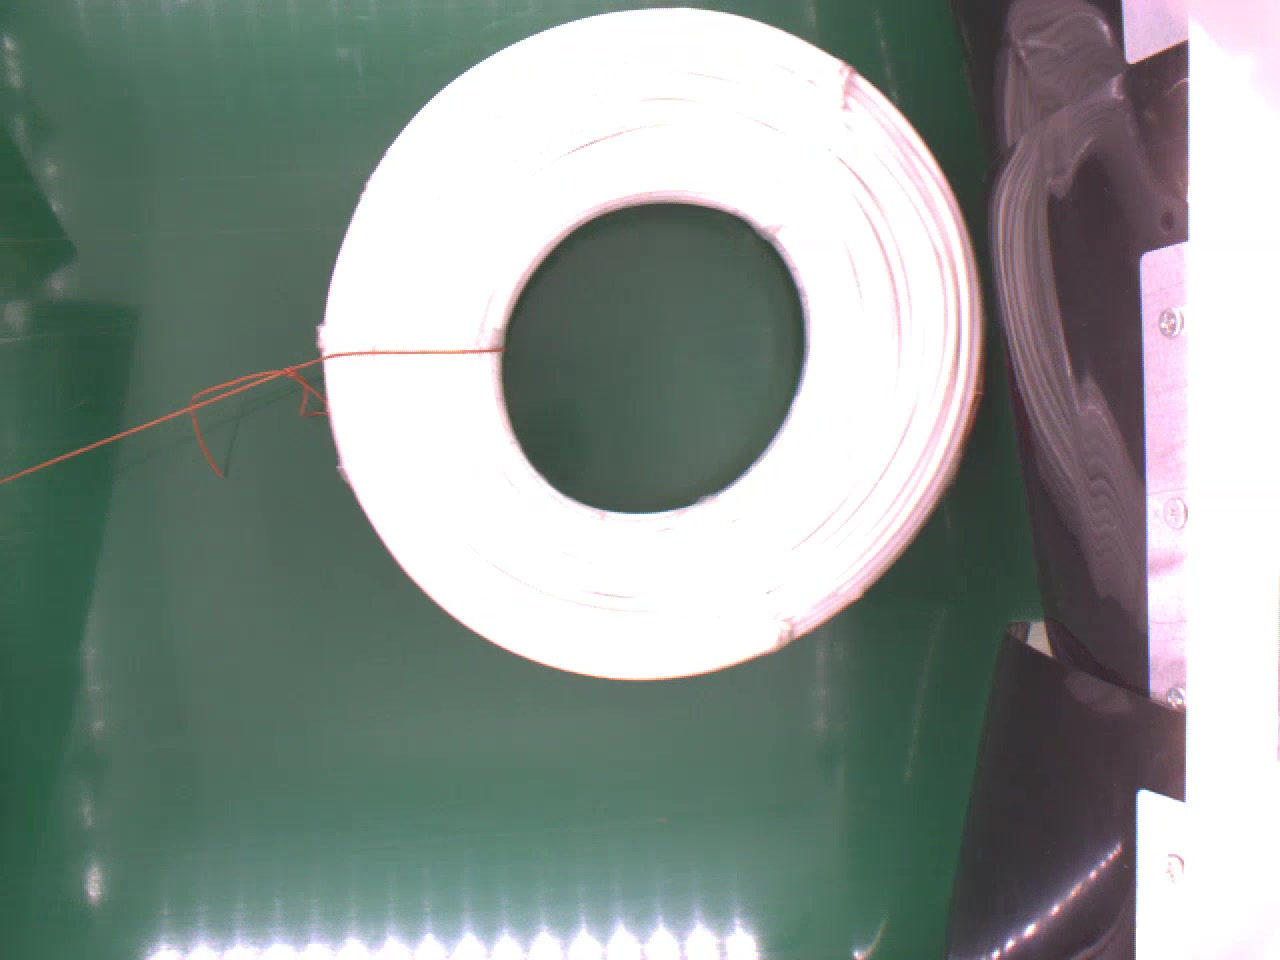white: (317, 0, 992, 682)
